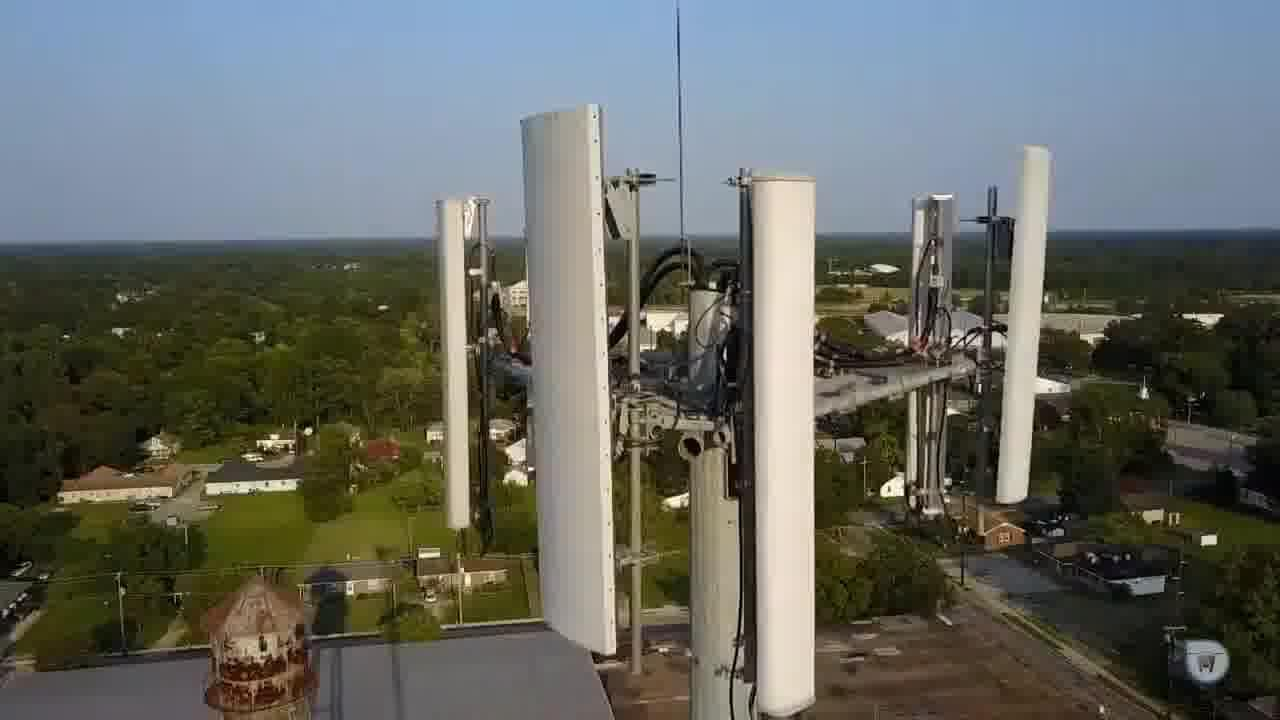antenna: (513, 95, 636, 662), (725, 165, 828, 717), (985, 141, 1052, 505), (433, 189, 487, 529), (905, 187, 952, 538)
